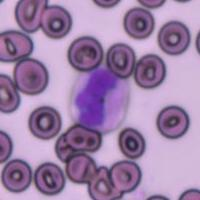M: (70, 64, 130, 132)
